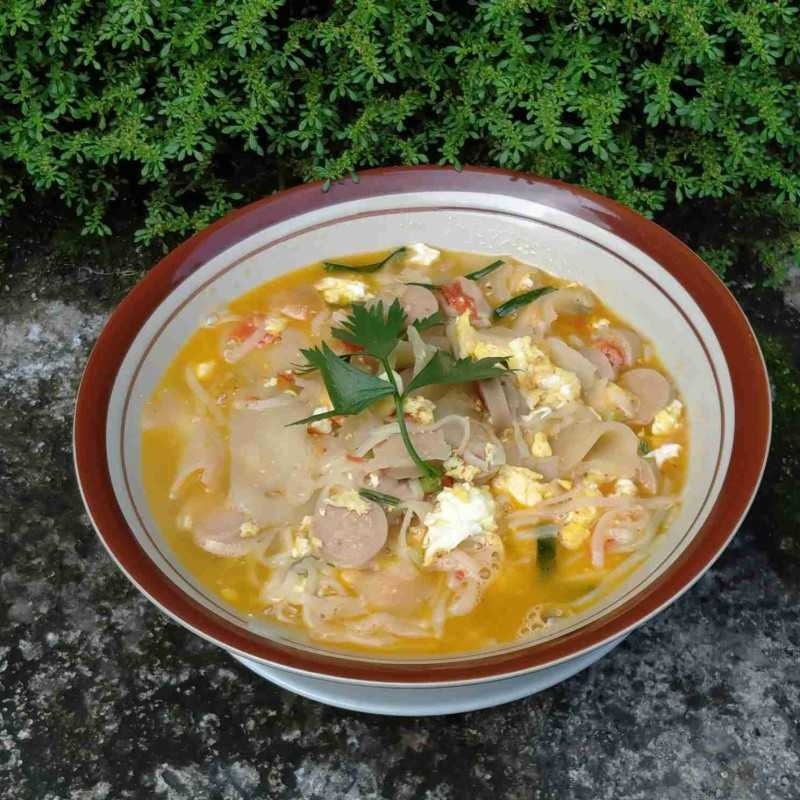seblak: (142, 245, 686, 658)
